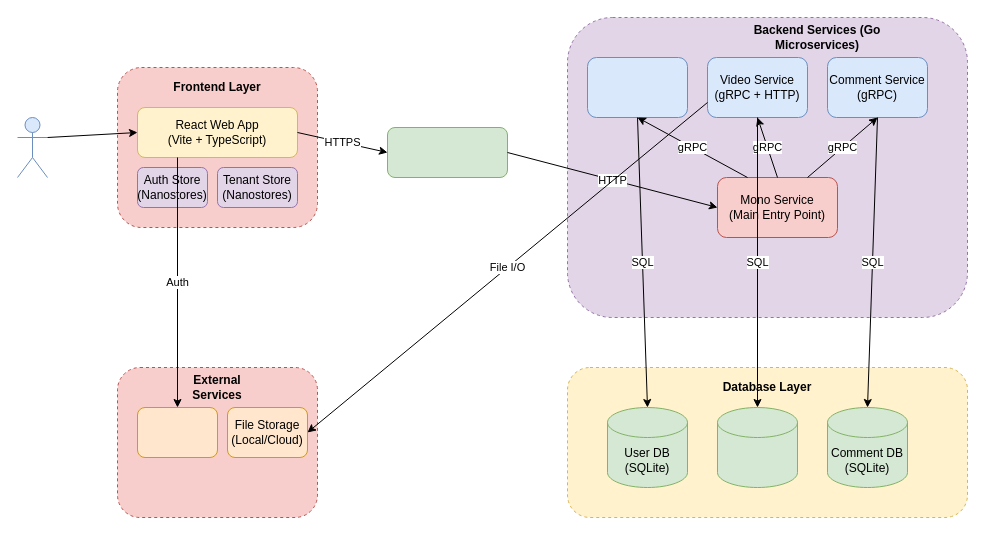
The diagram is 985 pixels wide and 535 high, and some of its shapes have lost their labels. The centre of each missing label's shape, as x and y in pixels:
API Gateway (Reverse Proxy): point 447,152
Firebase Authentication: point 177,432
User Service (gRPC): point 637,87
Users: point 32,147
Video DB (SQLite): point 757,447
